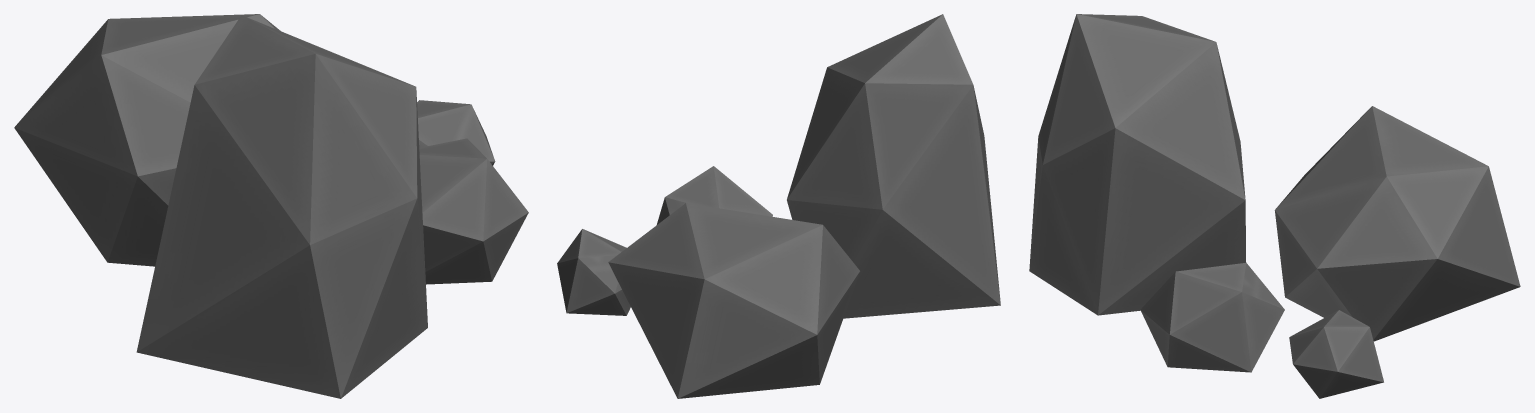
Rendered from Rocks.fbx.
The picture shows the model from 3 angles, left to right: view 1: azimuth 30°, elevation 25°; view 2: azimuth 150°, elevation 25°; view 3: azimuth 270°, elevation 25°; orthographic projection. The views are drawn at different scales.
Visible parts, largest first — view 1: pPlatonic7, pPlatonic5, pPlatonic4, pPlatonic6; view 2: pPlatonic7, pPlatonic5, pPlatonic6, pPlatonic4; view 3: pPlatonic7, pPlatonic5, pPlatonic4, pPlatonic6.
Part boxes in pixels (left/top/right/bottom): pPlatonic7: left=136, top=15, right=427, bottom=398; pPlatonic5: left=14, top=14, right=280, bottom=266; pPlatonic4: left=419, top=138, right=528, bottom=284; pPlatonic6: left=417, top=100, right=495, bottom=165; pPlatonic7: left=787, top=14, right=1000, bottom=318; pPlatonic5: left=608, top=203, right=859, bottom=398; pPlatonic6: left=557, top=229, right=630, bottom=315; pPlatonic4: left=657, top=166, right=772, bottom=224; pPlatonic7: left=1029, top=14, right=1246, bottom=315; pPlatonic5: left=1274, top=106, right=1520, bottom=341; pPlatonic4: left=1140, top=263, right=1284, bottom=372; pPlatonic6: left=1289, top=310, right=1383, bottom=398.
Bounding box in the file's own units: 0.0148 × 0.0104 × 0.0171.
1 material, 1 textured.
